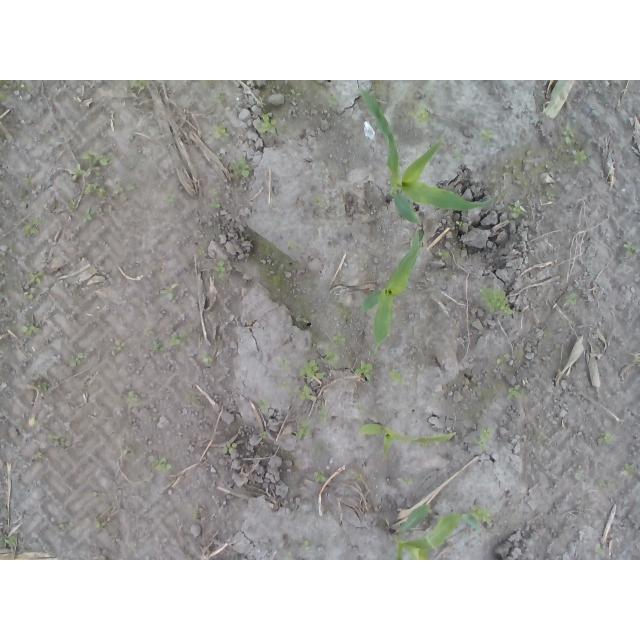Maize: (358, 87, 488, 227), (361, 226, 423, 350), (389, 502, 480, 560), (358, 422, 459, 455)
Weeds: (72, 151, 113, 177), (562, 126, 591, 162), (82, 183, 134, 201), (299, 360, 326, 381), (21, 217, 48, 238), (258, 113, 283, 133), (415, 103, 434, 127), (228, 158, 252, 177), (474, 427, 493, 450), (295, 415, 313, 439), (354, 360, 374, 381), (470, 506, 491, 524), (48, 433, 72, 448), (299, 383, 318, 401), (213, 124, 232, 142), (152, 456, 173, 472), (168, 335, 190, 349), (21, 323, 43, 337), (389, 368, 407, 385), (322, 351, 338, 370), (596, 431, 616, 446), (70, 352, 87, 369), (623, 240, 639, 257), (335, 304, 351, 321), (129, 391, 144, 408), (112, 338, 129, 353), (27, 271, 45, 285), (506, 385, 522, 400), (208, 89, 225, 103), (480, 128, 497, 142), (511, 200, 523, 219), (152, 338, 167, 353), (623, 462, 637, 478), (83, 208, 96, 225), (215, 260, 226, 280), (280, 88, 304, 97), (130, 81, 147, 92), (223, 442, 237, 455), (162, 192, 177, 204), (0, 535, 16, 546), (495, 354, 509, 366), (319, 407, 328, 425), (300, 540, 313, 552), (564, 292, 576, 305), (543, 191, 557, 202), (17, 84, 34, 93), (327, 95, 337, 110), (1, 80, 16, 89), (256, 399, 268, 410), (94, 519, 106, 530), (333, 334, 345, 345), (264, 266, 276, 277), (202, 352, 210, 368), (399, 479, 417, 486), (208, 203, 226, 210), (314, 471, 326, 481), (438, 249, 451, 258), (22, 292, 35, 301), (283, 352, 290, 368), (191, 511, 202, 521), (168, 288, 177, 300), (594, 478, 607, 486), (535, 431, 545, 441), (314, 193, 321, 207), (352, 472, 364, 480), (40, 383, 49, 393), (207, 190, 221, 196), (288, 240, 297, 249), (258, 432, 268, 440), (14, 280, 22, 288), (456, 153, 465, 160), (456, 221, 464, 227), (1, 95, 8, 101), (416, 144, 421, 148)
